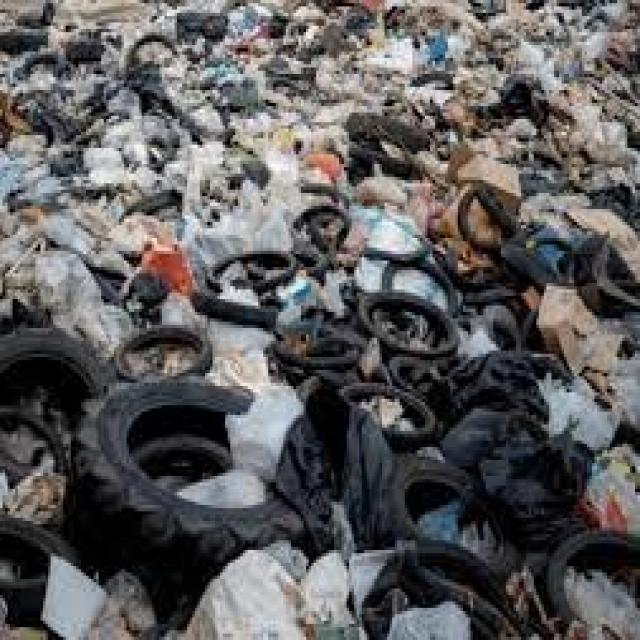Rubber -Non-Biodegradable but Recyclable-: (70, 377, 310, 577), (208, 212, 461, 364), (0, 321, 130, 612), (384, 448, 520, 578), (542, 530, 640, 631), (103, 327, 213, 389), (272, 321, 358, 379), (196, 289, 271, 328)
